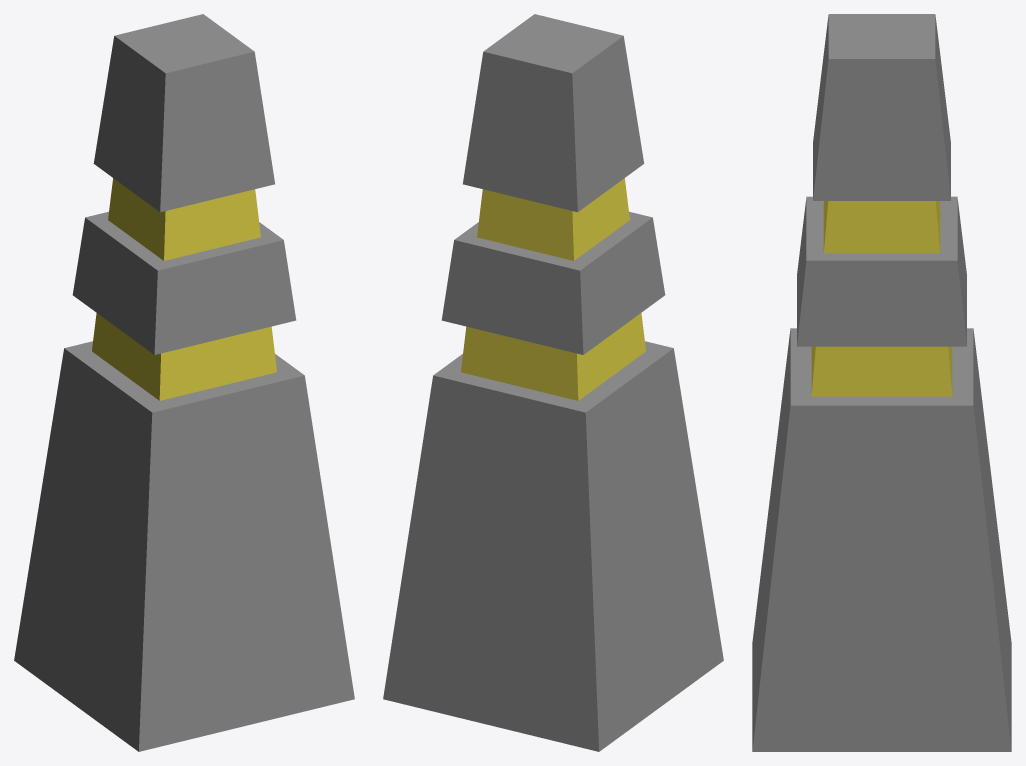
The model's file is SM_Monolith.fbx.
3 views of the same model, side by side, from view 1: azimuth 30°, elevation 25°; view 2: azimuth 150°, elevation 25°; view 3: azimuth 270°, elevation 25° (orthographic). The views are drawn at different scales.
Parts seen in each view (by area): view 1: Monolith; view 2: Monolith; view 3: Monolith.
Part boxes in pixels (x1,y1,x2,y2): Monolith: (14,14,354,751); Monolith: (383,14,723,751); Monolith: (752,14,1011,751).
Bounding box in the file's own units: 106 × 298 × 106.
